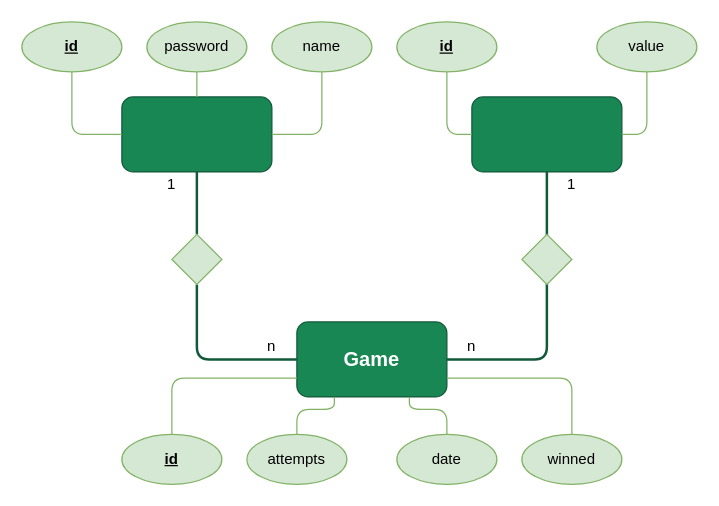
The diagram is 719 pixels wide and 506 high, and some of its shapes have lost their labels. The shapes that lost their labels are listed below. From the top down, each one's centre as x and y in pixels, then its label:
[196,134]: User
[546,134]: Word
[196,258]: tiene
[546,258]: pertenece
